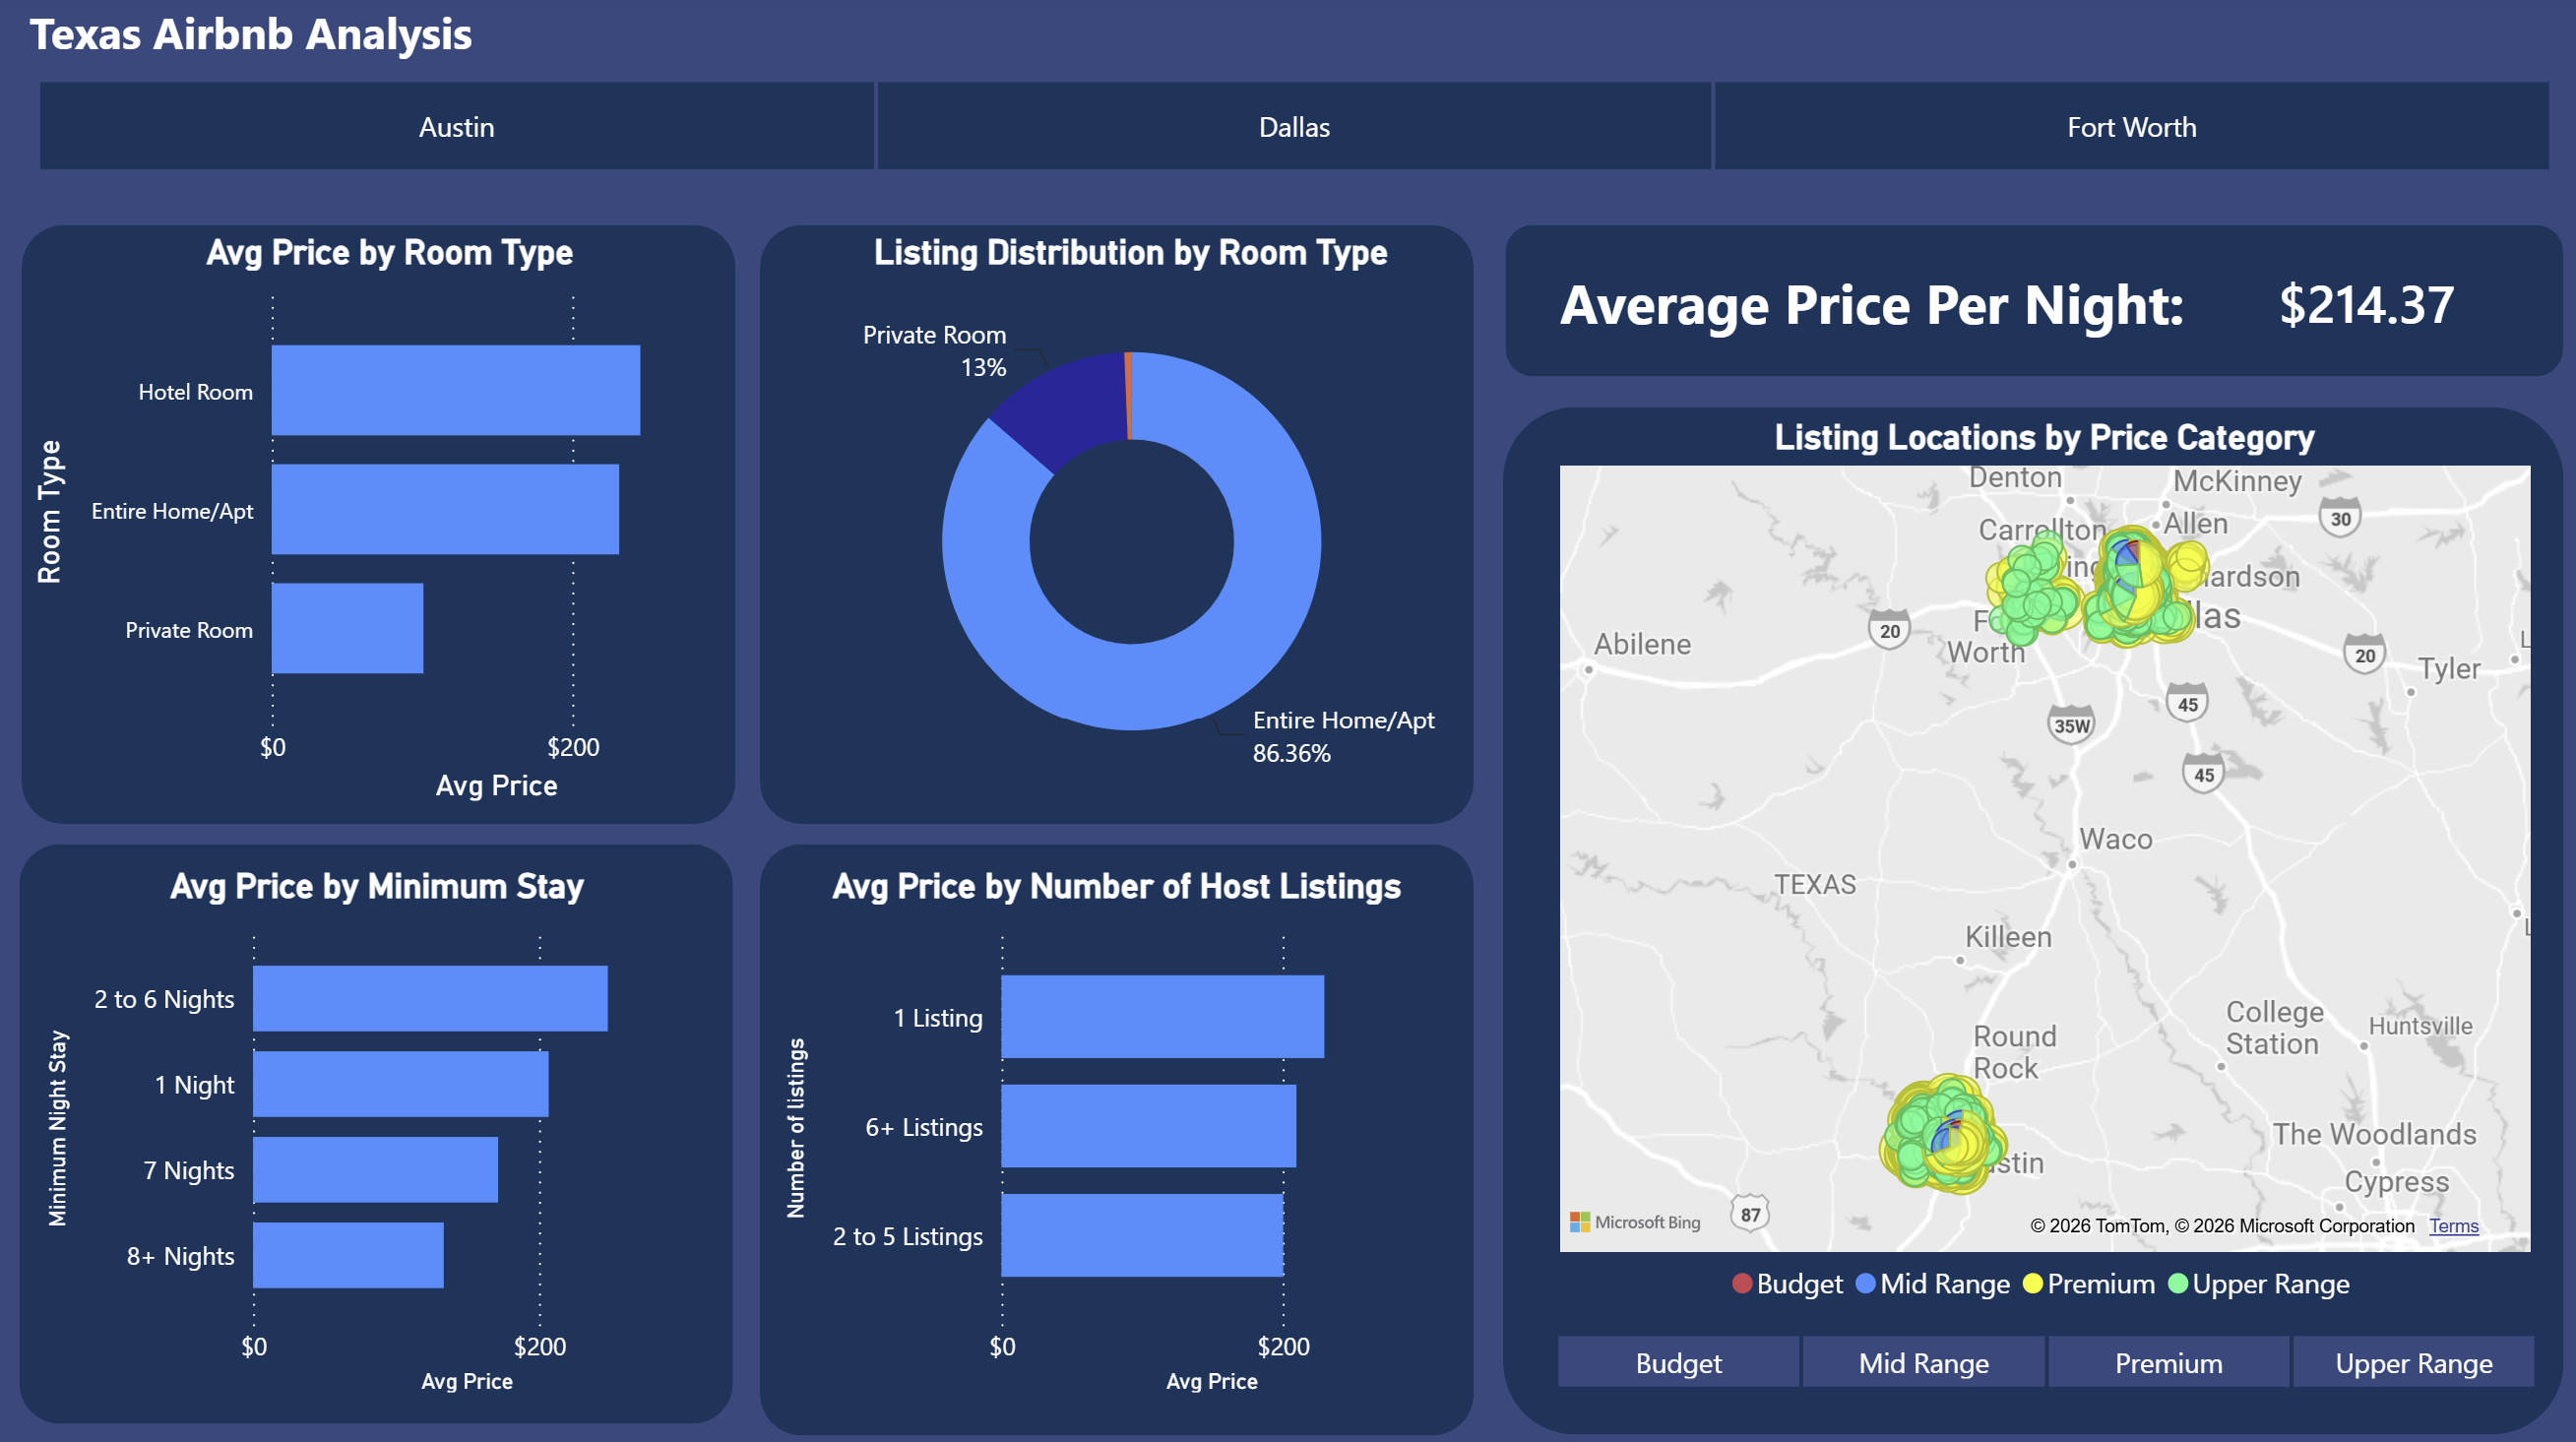

The dashboard page shown, as its layout file describes it:
{"tool":"powerbi","page":{"name":"Page 1","canvas":[1280,720],"ordinal":0},"visuals":[{"type":"shape","box":[744.3,114.3,518.6,74.3],"z":0},{"type":"shape","box":[742.9,204.3,520,504.3],"z":1000},{"type":"shape","box":[378.6,114.3,350,294.3],"z":2000},{"type":"shape","box":[378.6,418.6,350,290],"z":3000},{"type":"shape","box":[15.7,418.6,350,284.3],"z":4000},{"type":"shape","box":[17.1,114.3,350,294.3],"z":5000},{"type":"slicer","fields":{"Values":["public listings.city"]},"box":[0,37.1,1280,57.1],"z":6000},{"type":"cardVisual","title":"Avg Nightly Price","fields":{"Data":["Avg(public listings.price)"]},"box":[1094.3,114.3,145.7,74.3],"z":7000},{"type":"clusteredBarChart","title":"Avg Price by Room Type","fields":{"Category":["public listings.room_type"],"Y":["Avg(public listings.price)"]},"box":[17.1,118.6,361.4,284.3],"z":8000},{"type":"donutChart","title":"Listing Distribution by Room Type","fields":{"Category":["public listings.room_type"],"Y":["CountNonNull(public listings.price)"]},"box":[378.6,118.6,364.3,284.3],"z":9000},{"type":"map","title":"Listing Locations by Price Category","fields":{"Y":["public listings.latitude"],"X":["public listings.longitude"],"Size":["Avg(public listings.price)"],"Series":["public listings.price_category"]},"box":[765.7,208.6,485.7,444.3],"z":10000},{"type":"slicer","fields":{"Values":["public listings.price_category"]},"box":[744.3,652.9,528.6,38.6],"z":11000},{"type":"clusteredBarChart","title":"Avg Price by Minimum Stay","fields":{"Category":["public listings.minimum_stay_category"],"Y":["Avg(public listings.price)"]},"box":[24.3,430,334.3,262.9],"z":12000},{"type":"clusteredBarChart","title":"Avg Price by Number of Host Listings","fields":{"Category":["public listings.host_category"],"Y":["Avg(public listings.price)"]},"box":[385.7,430,335.7,262.9],"z":13000},{"type":"textbox","box":[15.7,0,315.7,40],"z":13001},{"type":"textbox","box":[765.7,128.6,344.3,47.1],"z":13002}]}

Visuals, with their boxes in screenshot pixels (x1, y1, x2, y2), scaled from the page's 1280x720 canvas onto the 2576x1442 screenshot:
shape: 1498:229:2542:378
shape: 1495:409:2542:1419
shape: 762:229:1467:818
shape: 762:839:1467:1419
shape: 31:839:736:1408
shape: 34:229:739:818
slicer - public listings.city: 0:74:2575:189
"Avg Nightly Price" cardVisual: 2202:229:2495:378
"Avg Price by Room Type" clusteredBarChart: 34:237:762:807
"Listing Distribution by Room Type" donutChart: 762:237:1495:807
"Listing Locations by Price Category" map: 1540:417:2519:1307
slicer - public listings.price_category: 1498:1307:2561:1385
"Avg Price by Minimum Stay" clusteredBarChart: 49:861:722:1388
"Avg Price by Number of Host Listings" clusteredBarChart: 777:861:1452:1388
textbox: 31:0:667:80
textbox: 1540:258:2233:352
